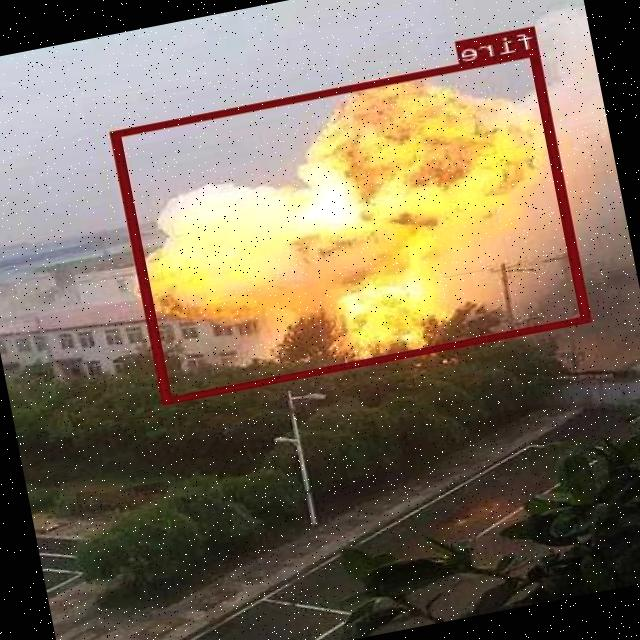fire: (112, 48, 594, 403)
